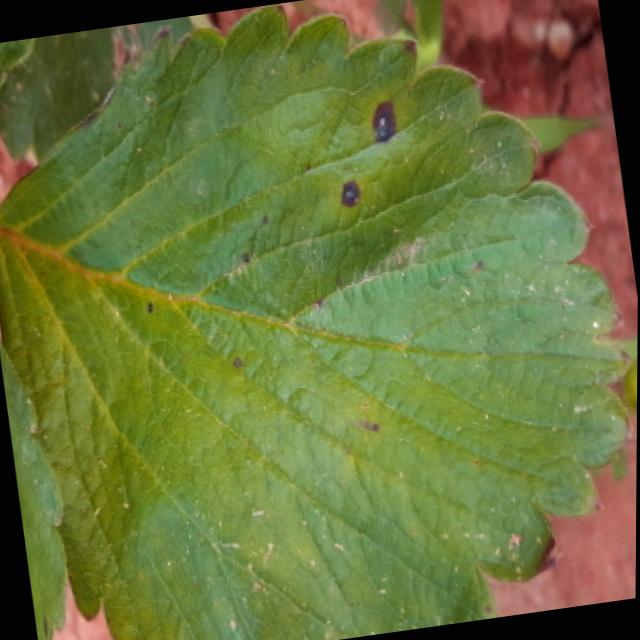Leaf Spot: (0, 2, 636, 640)
